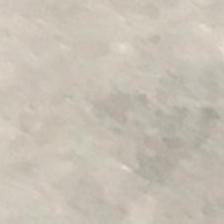Non_Crack: (24, 23, 204, 185)
